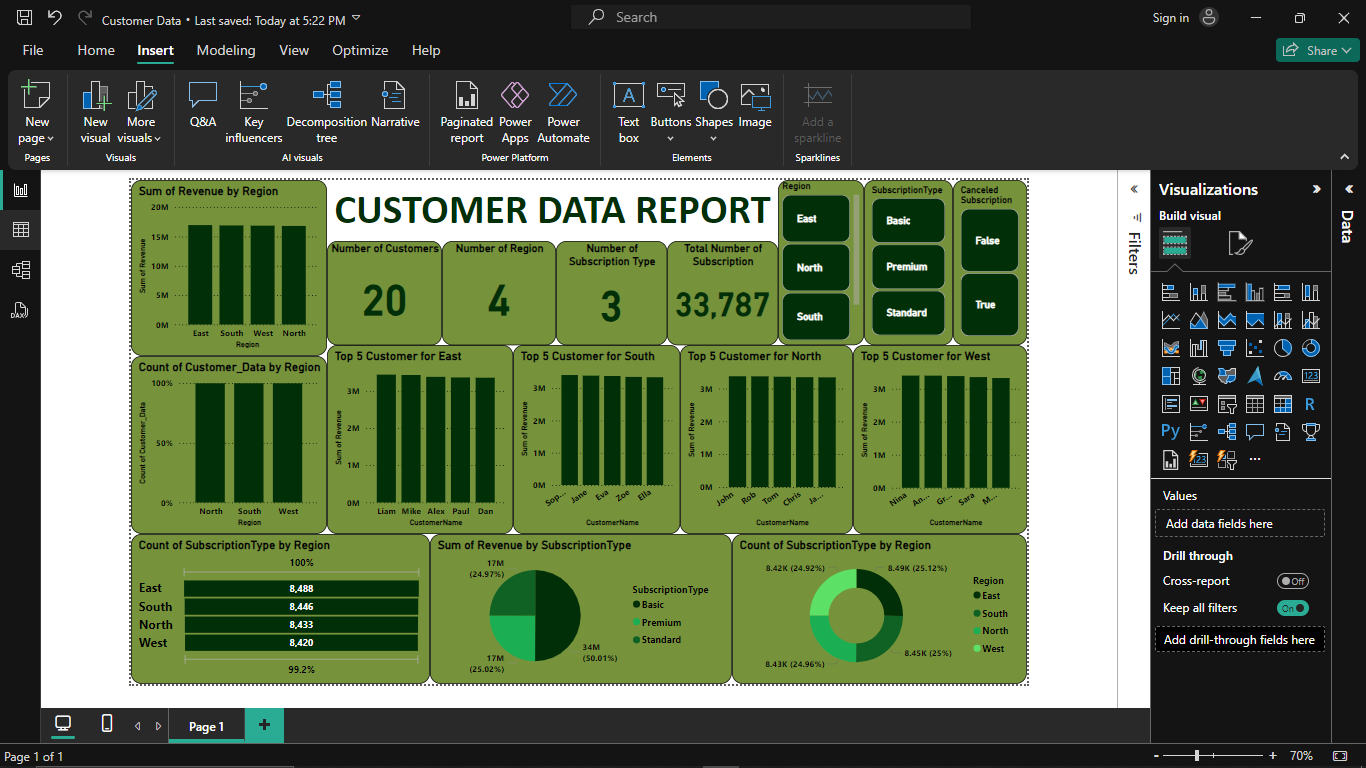

The page's visual inventory and layout, read from the dashboard file:
{"tool":"powerbi","page":{"name":"Page 1","canvas":[1280,720],"ordinal":0},"visuals":[{"type":"columnChart","title":"Top 5 Customer for South","fields":{"Category":["Customer_Data.CustomerName"],"Y":["Customer_Data.Revenue"]},"box":[545.7,235.7,238.6,270],"z":0},{"type":"columnChart","title":"Top 5 Customer for East","fields":{"Category":["Customer_Data.CustomerName"],"Y":["Customer_Data.Revenue"]},"box":[280,235.7,265.7,270],"z":1000},{"type":"card","title":"Number of Region","fields":{"Values":["Customer_Data.Region"]},"box":[444.3,87.1,162.9,148.6],"z":2000},{"type":"card","title":"Number of Customers","fields":{"Values":["Customer_Data.CustomerName"]},"box":[280,87.1,164.3,148.6],"z":3000},{"type":"card","title":"Number of Subscription Type","fields":{"Values":["Customer_Data.SubscriptionType"]},"box":[607.1,87.1,158.6,148.6],"z":4000},{"type":"card","title":"Total Number of Subscription","fields":{"Values":["Customer_Data.Canceled"]},"box":[765.7,87.1,158.6,148.6],"z":5000},{"type":"funnel","fields":{"Category":["Customer_Data.Region"],"Y":["Customer_Data.SubscriptionType"]},"box":[0,505.7,427.1,214.3],"z":6000},{"type":"clusteredColumnChart","title":"Top 5 Customer for West","fields":{"Category":["Customer_Data.CustomerName"],"Y":["Customer_Data.Revenue"]},"box":[1031.4,235.7,248.6,270],"z":7000},{"type":"columnChart","title":"Top 5 Customer for North","fields":{"Category":["Customer_Data.CustomerName"],"Y":["Customer_Data.Revenue"]},"box":[784.3,235.7,247.1,270],"z":8000},{"type":"columnChart","fields":{"Category":["Customer_Data.Region"],"Y":["Customer_Data.Revenue"]},"box":[0,0,280,251.4],"z":9000},{"type":"hundredPercentStackedColumnChart","fields":{"Category":["Customer_Data.Region"],"Y":["Customer_Data"]},"box":[0,251.4,280,254.3],"z":10000},{"type":"donutChart","fields":{"Category":["Customer_Data.Region"],"Y":["Customer_Data.SubscriptionType"]},"box":[858.6,505.7,421.4,214.3],"z":11000},{"type":"pieChart","fields":{"Category":["Customer_Data.SubscriptionType"],"Y":["Customer_Data.Revenue"]},"box":[427.1,505.7,431.4,214.3],"z":12000},{"type":"advancedSlicerVisual","fields":{"Values":["Customer_Data.Region"]},"box":[924.3,0,122.9,235.7],"z":13000},{"type":"advancedSlicerVisual","fields":{"Values":["Customer_Data.SubscriptionType"]},"box":[1047.1,0,127.1,235.7],"z":14000},{"type":"advancedSlicerVisual","title":"Canceled Subscription","fields":{"Values":["Customer_Data.Canceled"]},"box":[1174.3,0,105.7,235.7],"z":15000},{"type":"textbox","box":[280,0,644.3,87.1],"z":15001}]}

Visuals, with their boxes on the page's 1280x720 design canvas (x1, y1, x2, y2). These are canvas units, not pixel positions in the 1366x768 screenshot, which may show the page scaled, cropped or inside an application window:
"Top 5 Customer for South" columnChart: left=546, top=236, right=784, bottom=506
"Top 5 Customer for East" columnChart: left=280, top=236, right=546, bottom=506
"Number of Region" card: left=444, top=87, right=607, bottom=236
"Number of Customers" card: left=280, top=87, right=444, bottom=236
"Number of Subscription Type" card: left=607, top=87, right=766, bottom=236
"Total Number of Subscription" card: left=766, top=87, right=924, bottom=236
funnel - Customer_Data.Region x Customer_Data.SubscriptionType: left=0, top=506, right=427, bottom=720
"Top 5 Customer for West" clusteredColumnChart: left=1031, top=236, right=1280, bottom=506
"Top 5 Customer for North" columnChart: left=784, top=236, right=1031, bottom=506
columnChart - Customer_Data.Region x Customer_Data.Revenue: left=0, top=0, right=280, bottom=251
hundredPercentStackedColumnChart - Customer_Data.Region x Customer_Data: left=0, top=251, right=280, bottom=506
donutChart - Customer_Data.Region x Customer_Data.SubscriptionType: left=859, top=506, right=1280, bottom=720
pieChart - Customer_Data.SubscriptionType x Customer_Data.Revenue: left=427, top=506, right=858, bottom=720
advancedSlicerVisual - Customer_Data.Region: left=924, top=0, right=1047, bottom=236
advancedSlicerVisual - Customer_Data.SubscriptionType: left=1047, top=0, right=1174, bottom=236
"Canceled Subscription" advancedSlicerVisual: left=1174, top=0, right=1280, bottom=236
textbox: left=280, top=0, right=924, bottom=87
